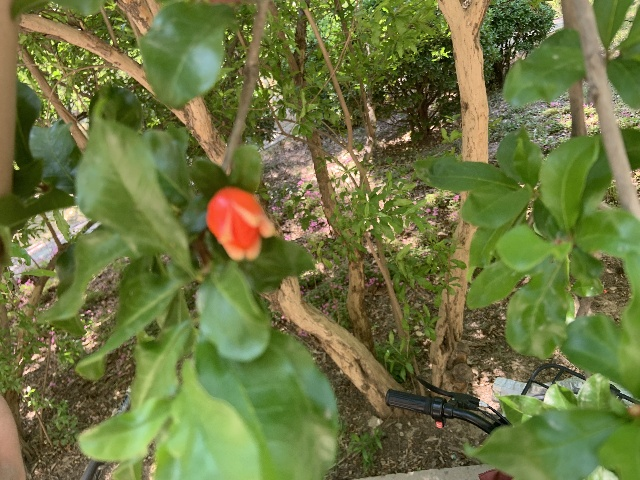flower: (205, 186, 276, 261)
